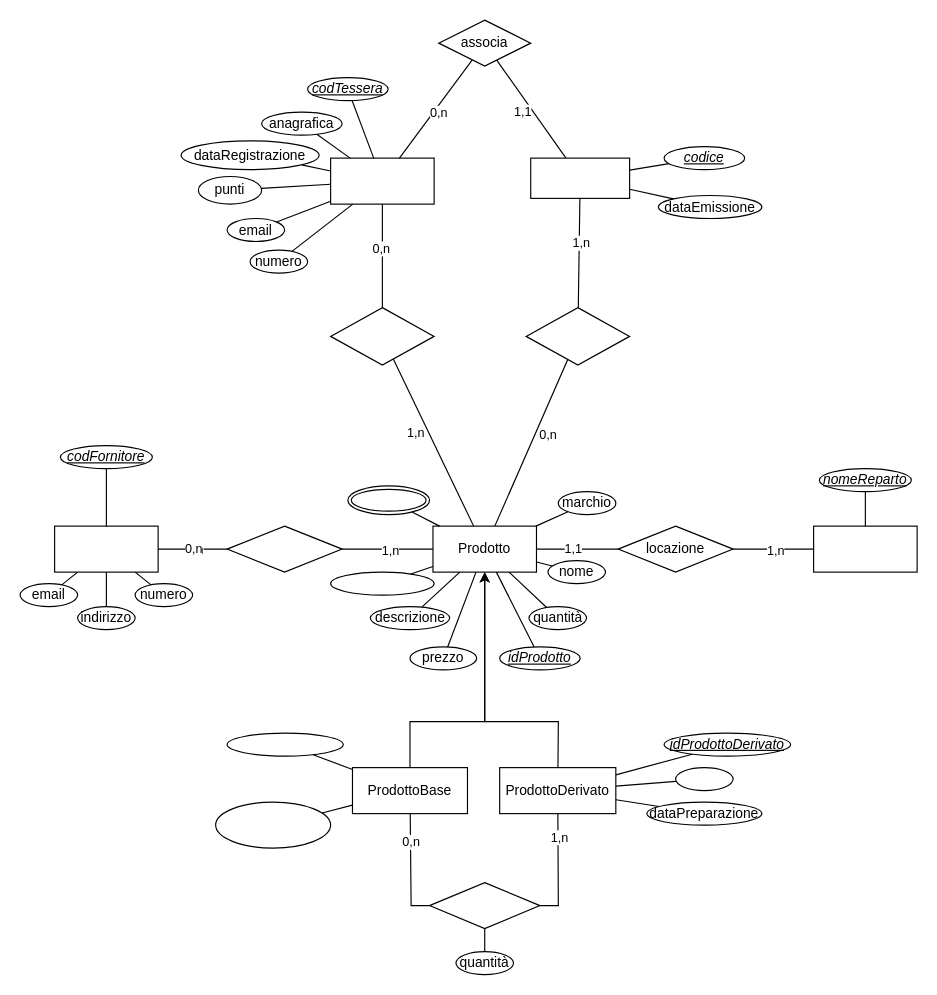
Image size: 937x995. Some labels were removed from this diagram. Here are the shapes that lost their labels. From the top down, the centre of each, then its label:
At pixel 381 180: "Cliente".
At pixel 580 177: "Scontrino".
At pixel 381 335: "compra".
At pixel 577 335: "contiene".
At pixel 388 500: "tipologia".
At pixel 105 548: "Fornitore".
At pixel 284 548: "fornisce".
At pixel 864 548: "Reparto".
At pixel 381 583: "dataScadenza".
At pixel 284 744: "idProdottoBase".
At pixel 703 778: "ricetta".
At pixel 272 824: "luogo di provenzienza".
At pixel 484 905: "compone".
